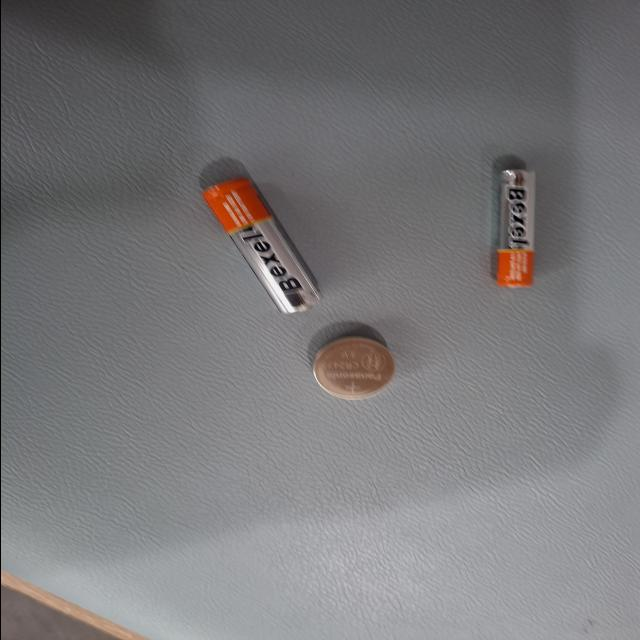AA: (222, 150, 404, 238)
AAA: (256, 370, 416, 402)
COIN: (106, 234, 190, 296)
